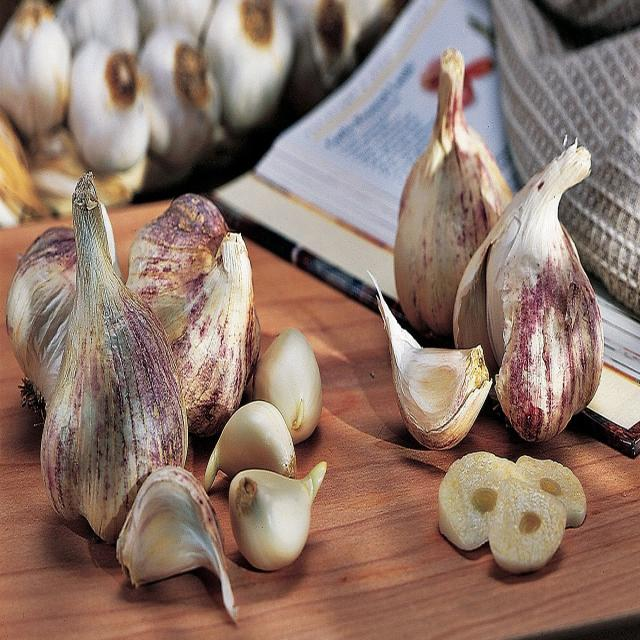garlic: (40, 172, 187, 541), (452, 140, 602, 439), (394, 47, 512, 334), (126, 194, 260, 435), (368, 271, 490, 447), (116, 466, 237, 619), (6, 227, 76, 402), (228, 460, 326, 569), (204, 400, 296, 490), (252, 327, 322, 442)
